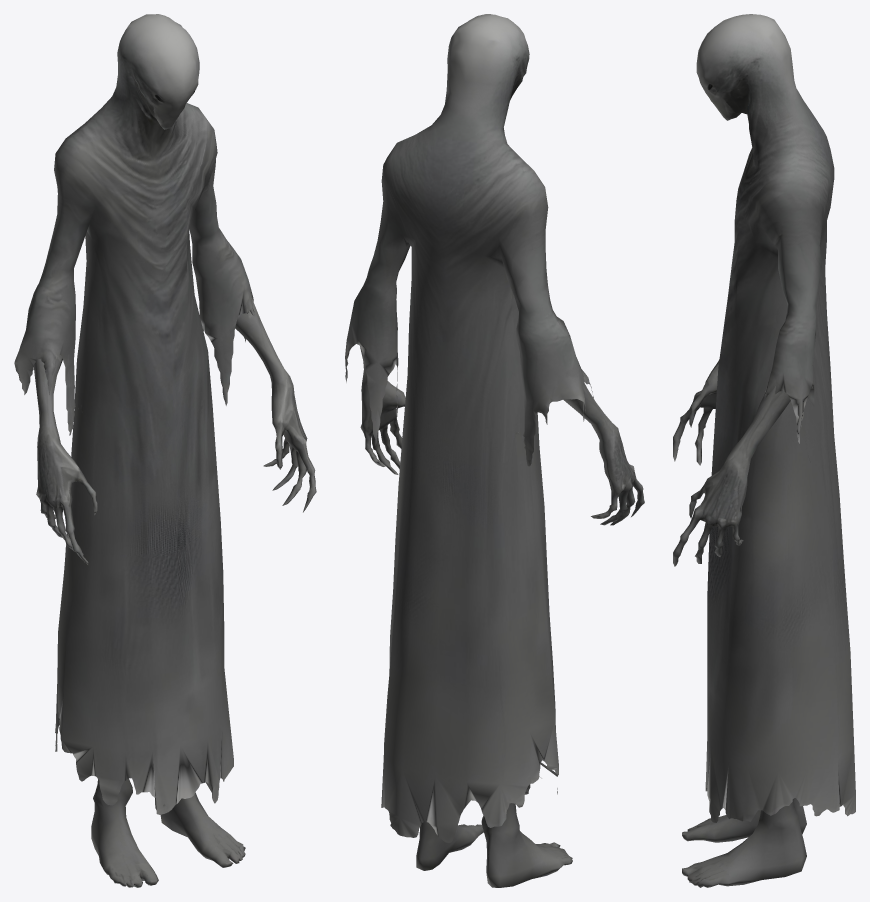
Rendered from 019f40cd-948c-726d-9afb-3d15860a334d.glb.
3 views of the same model, side by side, from view 1: azimuth 30°, elevation 25°; view 2: azimuth 150°, elevation 25°; view 3: azimuth 270°, elevation 25° (orthographic).
Visible parts, largest first — view 1: tripo_node_82481686-9f08-48f0-bfcc-82dba4f9f21f; view 2: tripo_node_82481686-9f08-48f0-bfcc-82dba4f9f21f; view 3: tripo_node_82481686-9f08-48f0-bfcc-82dba4f9f21f.
Boxes of the visible parts, box(x1,y1,x2,y2) form: tripo_node_82481686-9f08-48f0-bfcc-82dba4f9f21f: box(14, 14, 316, 887); tripo_node_82481686-9f08-48f0-bfcc-82dba4f9f21f: box(345, 14, 644, 887); tripo_node_82481686-9f08-48f0-bfcc-82dba4f9f21f: box(673, 14, 855, 887).
Size of the model in its own units: 0.3301 by 0.998 by 0.1973.
1 material, 1 textured.
